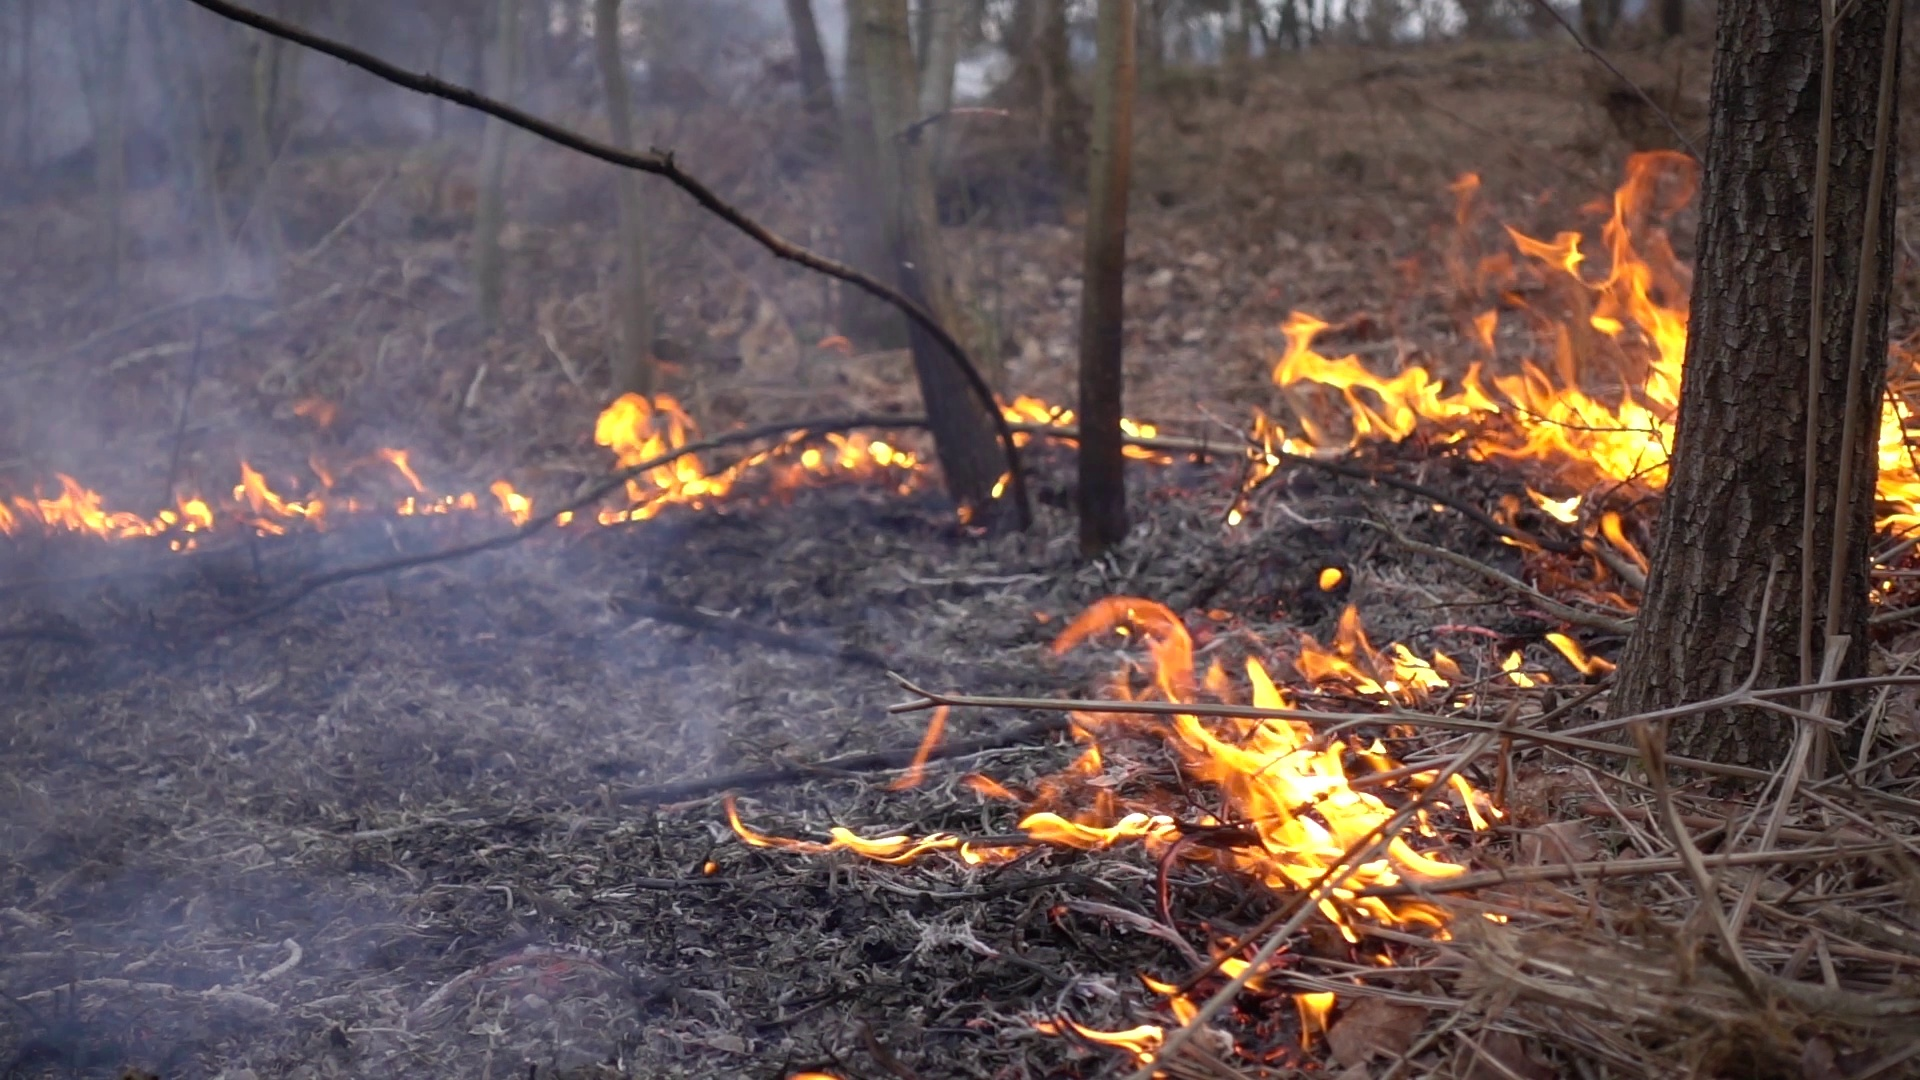fire: (1034, 596, 1503, 943), (1267, 199, 1692, 477), (589, 404, 698, 504), (4, 479, 132, 533), (1878, 394, 1919, 535), (1009, 398, 1060, 433), (241, 469, 280, 514), (489, 477, 527, 522)
